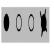correct: (3, 12, 10, 33)
not correct: (39, 7, 48, 39)
